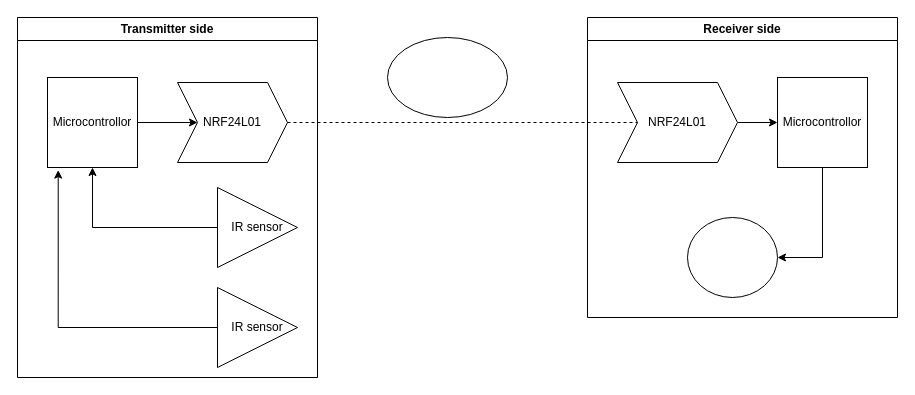
The diagram is 915 pixels wide and 395 high, and some of its shapes have lost their labels. Here are the shapes that lost their labels. From the top down, the centre of each, then its label:
At pixel 447 77: "Wire less connection".
At pixel 732 257: "Motor".
